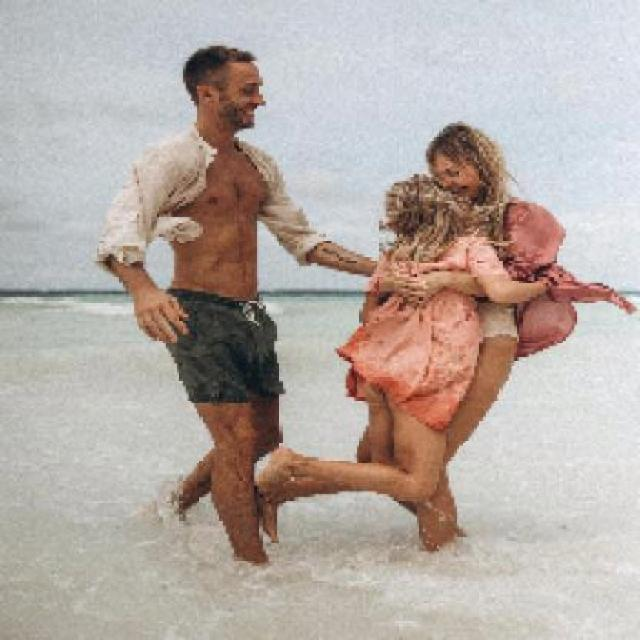child: (254, 172, 552, 508)
